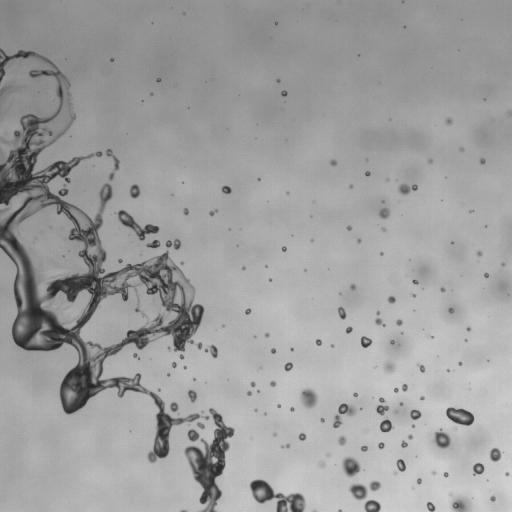droplet: (333, 403, 355, 428), (445, 407, 474, 425), (342, 456, 361, 477), (299, 388, 318, 408), (433, 429, 450, 448), (451, 495, 471, 511), (364, 499, 380, 511), (204, 345, 217, 358), (489, 448, 502, 461), (165, 238, 180, 249), (129, 184, 140, 198), (473, 462, 484, 475), (383, 361, 395, 372), (146, 239, 160, 248), (360, 336, 371, 347), (410, 409, 421, 420), (396, 459, 405, 471), (379, 208, 389, 218), (169, 402, 178, 413), (338, 307, 346, 319), (188, 390, 196, 402), (375, 317, 384, 326), (426, 502, 435, 511), (284, 362, 292, 371), (338, 436, 346, 445), (221, 186, 231, 193), (417, 364, 425, 372), (298, 433, 306, 440), (388, 296, 395, 303), (318, 461, 325, 468), (209, 209, 217, 215), (330, 159, 337, 165), (346, 326, 352, 333), (378, 442, 384, 449), (281, 90, 287, 96), (446, 118, 452, 124), (396, 319, 402, 325), (401, 441, 407, 447), (361, 445, 367, 451), (183, 208, 188, 215), (316, 339, 321, 346), (402, 384, 407, 391), (480, 158, 485, 164), (476, 251, 482, 256), (245, 308, 250, 314), (270, 348, 276, 353), (250, 381, 255, 387), (270, 381, 276, 386), (365, 171, 370, 176), (350, 284, 355, 289), (440, 287, 445, 292), (448, 308, 453, 313), (179, 354, 184, 359), (490, 496, 495, 501), (412, 280, 418, 284), (417, 478, 421, 484), (459, 147, 464, 151), (282, 246, 286, 251), (265, 332, 269, 337), (172, 362, 176, 367), (394, 387, 398, 392), (408, 434, 412, 439), (443, 472, 448, 476), (508, 110, 511, 116), (428, 159, 432, 163), (349, 184, 353, 188), (347, 226, 351, 230), (357, 238, 361, 242), (501, 262, 505, 266), (484, 273, 488, 277), (466, 327, 470, 331), (390, 340, 394, 344), (133, 353, 137, 357), (247, 391, 251, 395), (353, 392, 357, 396), (420, 396, 424, 400), (290, 407, 294, 411), (320, 418, 324, 422), (505, 472, 509, 476), (156, 78, 160, 81), (382, 227, 385, 231), (118, 259, 121, 263), (458, 361, 461, 365), (393, 471, 397, 474), (110, 58, 113, 61), (242, 266, 245, 269), (376, 311, 379, 314), (400, 402, 403, 405), (432, 471, 435, 474), (411, 294, 415, 296), (277, 79, 279, 82), (180, 262, 183, 264), (331, 344, 333, 347), (290, 348, 293, 350), (183, 366, 186, 368), (278, 404, 280, 407), (412, 424, 414, 427), (454, 427, 457, 429), (273, 433, 276, 435), (326, 454, 329, 456), (449, 494, 452, 496), (61, 227, 63, 229), (310, 239, 312, 241), (381, 252, 383, 254), (168, 347, 170, 349), (447, 369, 449, 371), (167, 373, 169, 375), (254, 409, 256, 411)
ligament: (0, 48, 234, 511), (249, 479, 305, 511), (116, 210, 159, 240), (0, 83, 24, 117), (349, 480, 380, 500), (376, 397, 393, 433), (106, 149, 119, 180), (398, 184, 417, 194), (282, 443, 290, 448), (337, 509, 342, 511), (181, 510, 186, 511), (312, 510, 316, 511)
